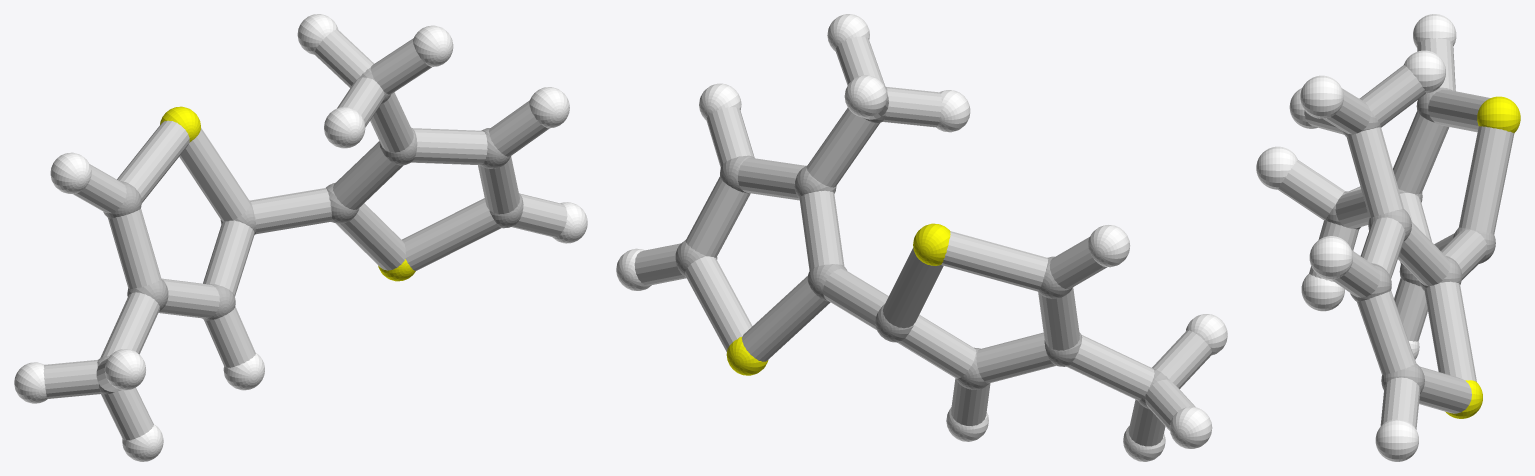
File: Methylthiophene_Phi_40_Theta_50_Methylthiophene.glb
3 views of the same model, side by side, from view 1: azimuth 30°, elevation 25°; view 2: azimuth 150°, elevation 25°; view 3: azimuth 270°, elevation 25° (orthographic). The views are drawn at different scales.
Visible parts, largest first — view 1: grp7965, grp3621, grp1, grp7241; view 2: grp7965, grp3621, grp1, grp7241; view 3: grp7965, grp3621, grp1, grp7241.
Part boxes in pixels (bbox=[...]): grp7965: bbox=[43, 29, 567, 440]; grp3621: bbox=[14, 14, 587, 461]; grp1: bbox=[97, 67, 523, 394]; grp7241: bbox=[160, 106, 415, 281]; grp7965: bbox=[634, 36, 1212, 446]; grp3621: bbox=[616, 14, 1227, 461]; grp1: bbox=[675, 86, 1170, 409]; grp7241: bbox=[726, 223, 950, 375]; grp7965: bbox=[1278, 38, 1514, 429]; grp3621: bbox=[1256, 14, 1456, 461]; grp1: bbox=[1325, 87, 1495, 393]; grp7241: bbox=[1445, 96, 1520, 418].
Bounding box in the file's own units: 9.53 × 5.77 × 3.64.
